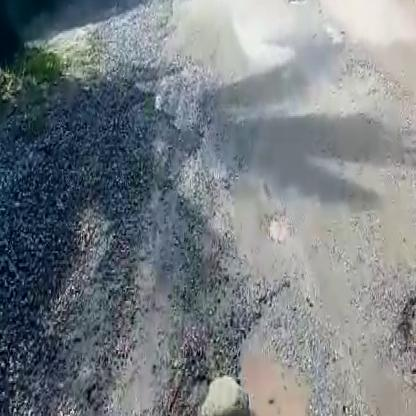pothole: (219, 333, 339, 416), (393, 258, 416, 394)
